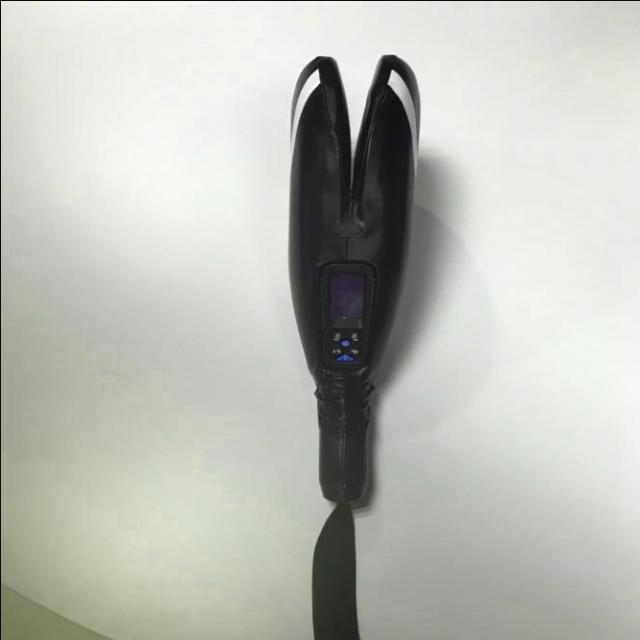paddle: (276, 44, 428, 506)
